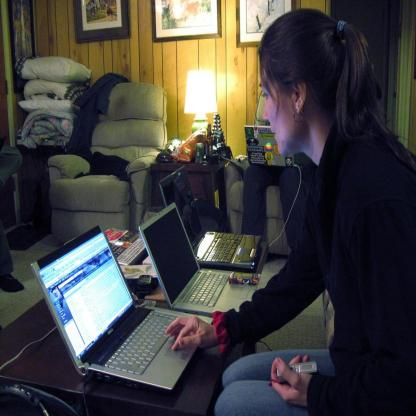board: (36, 219, 213, 408), (138, 204, 260, 319), (157, 164, 263, 270), (243, 127, 294, 166)
